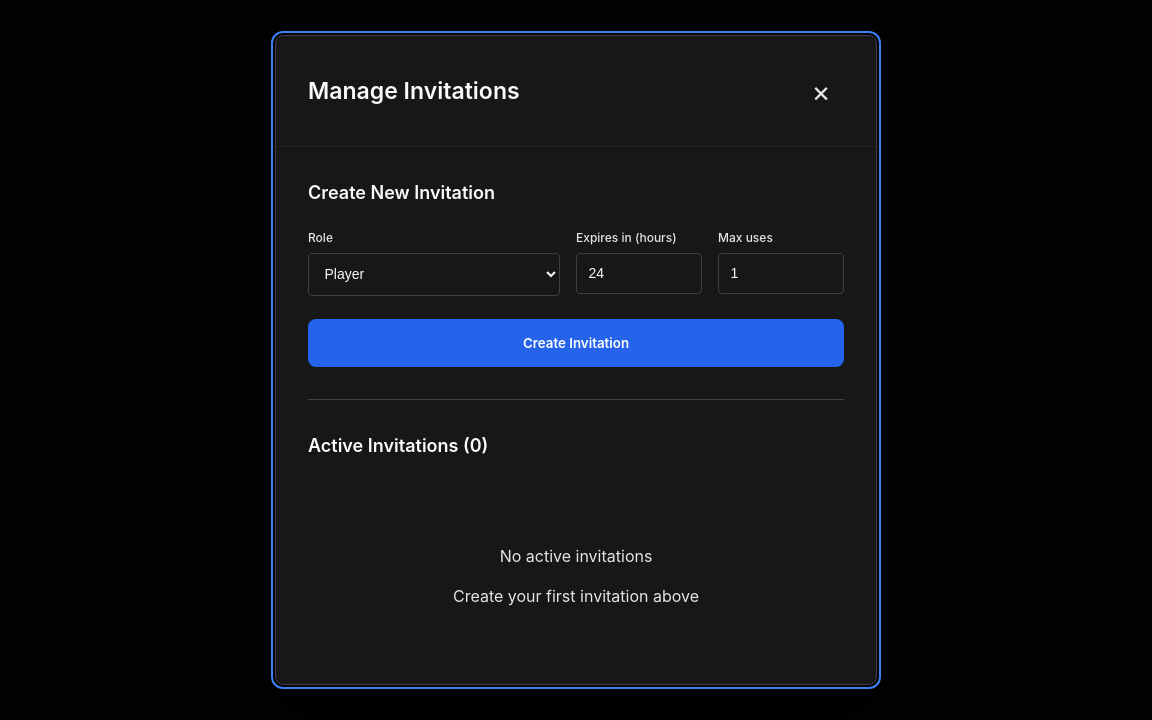
InvitationManager - Game Master Invitation Workflows › When game master creates a new invitation › shows loading state while creating invitation
Click the button "Create Invitation": [576, 343] box left=308, top=319, right=844, bottom=367
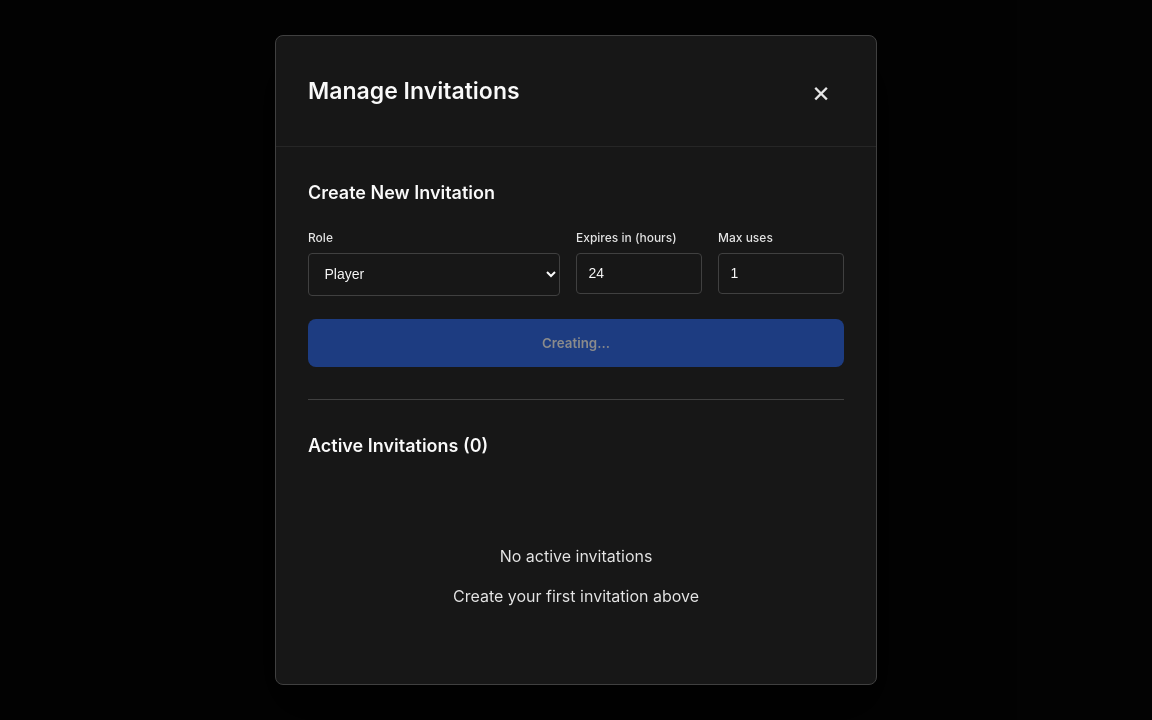
Now the button "Create Invitation" is disabled, box left=308, top=319, right=844, bottom=367
